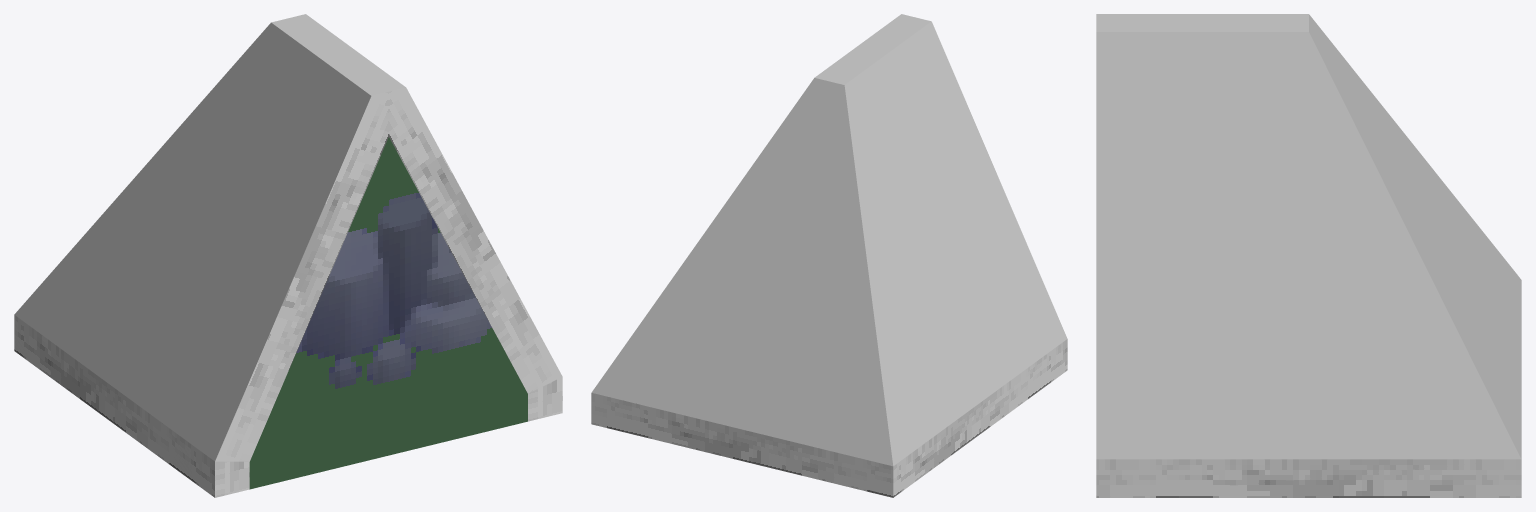
Rendered from roof_edge.dae.
3 renders of one model, left to right at view 1: azimuth 30°, elevation 25°; view 2: azimuth 150°, elevation 25°; view 3: azimuth 270°, elevation 25°, orthographic. The views are drawn at different scales.
Visible parts, largest first — view 1: roof_edge; view 2: roof_edge; view 3: roof_edge.
Part boxes in pixels (x1,y1,x2,y2): roof_edge: [14, 14, 562, 497]; roof_edge: [591, 14, 1067, 497]; roof_edge: [1096, 14, 1521, 497].
Bounding box in the file's own units: 1 × 1 × 1.
